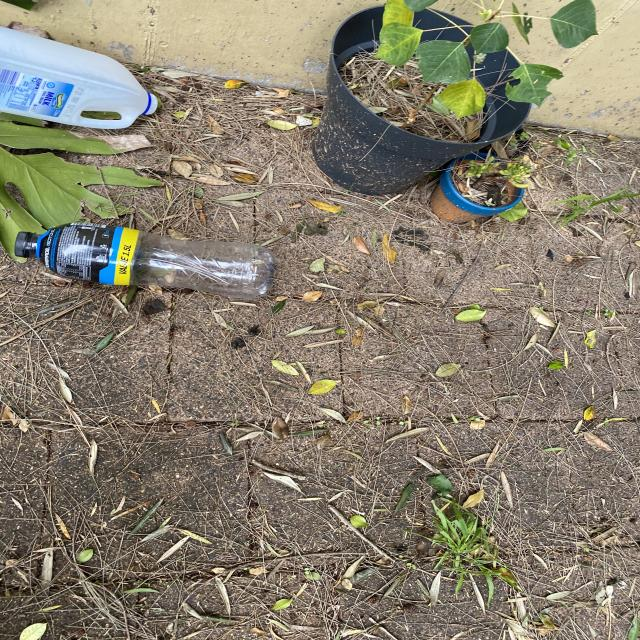bottle: (10, 219, 282, 310), (2, 18, 167, 140)
container: (322, 9, 544, 243), (427, 158, 525, 228)
